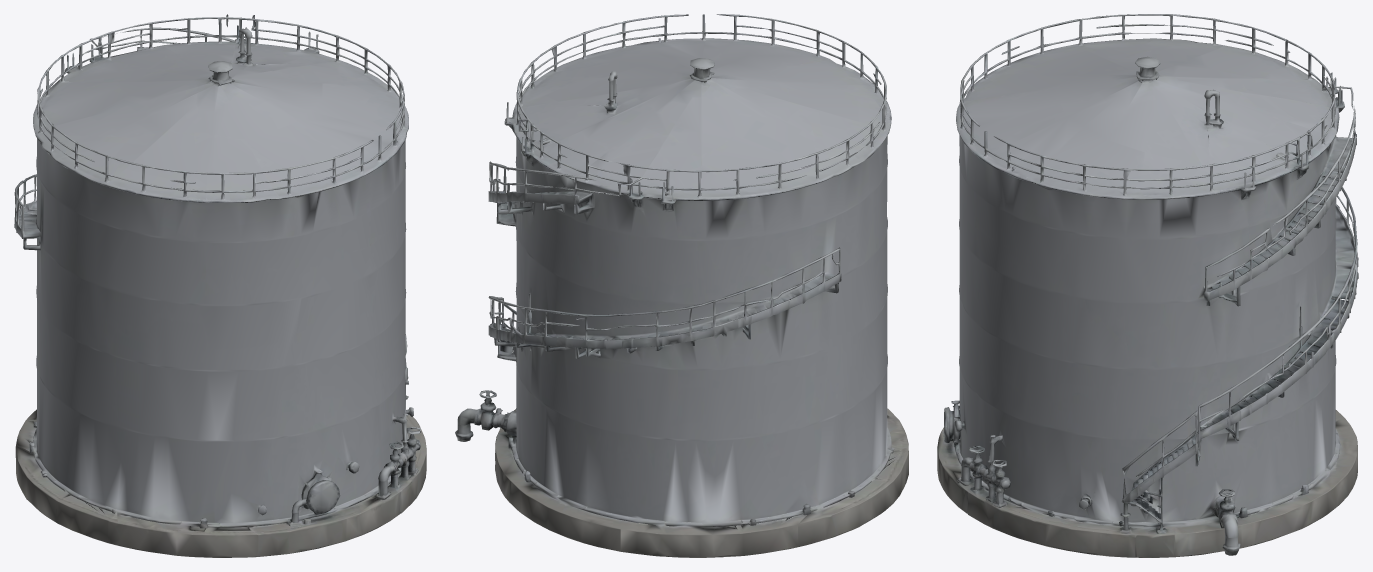
The model's file is storage-tank.da053218fc.glb.
3 views of the same model, side by side, from view 1: azimuth 30°, elevation 25°; view 2: azimuth 150°, elevation 25°; view 3: azimuth 270°, elevation 25° (orthographic).
Visible parts, largest first — view 1: tripo_node_4ccd10db-f896-40bb-aeb1-b9f645ae1c2b; view 2: tripo_node_4ccd10db-f896-40bb-aeb1-b9f645ae1c2b; view 3: tripo_node_4ccd10db-f896-40bb-aeb1-b9f645ae1c2b.
Part boxes in pixels (box(x1,y1,x2,y2)): tripo_node_4ccd10db-f896-40bb-aeb1-b9f645ae1c2b: box(14, 14, 426, 557); tripo_node_4ccd10db-f896-40bb-aeb1-b9f645ae1c2b: box(455, 14, 908, 557); tripo_node_4ccd10db-f896-40bb-aeb1-b9f645ae1c2b: box(937, 14, 1358, 557).
Bounding box in the file's own units: 12.45 × 12.74 × 11.82.
Materials: 1 (1 with a texture image).
